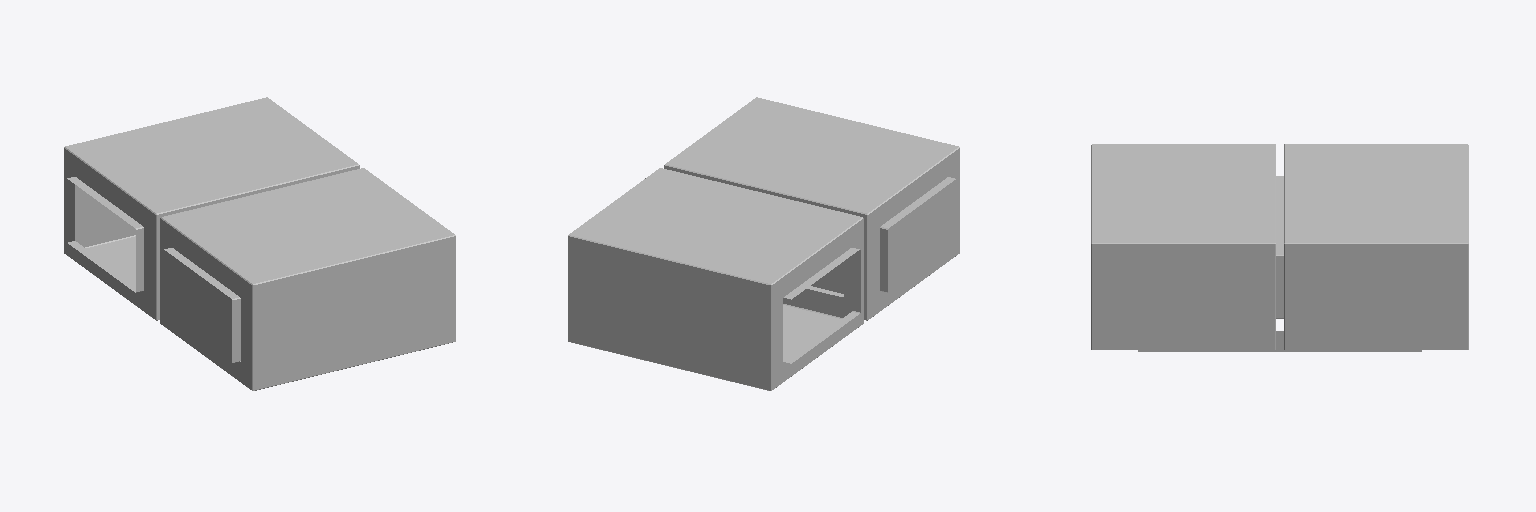
File: firstLivingroomTable.obj
3 views of the same model, side by side, from view 1: azimuth 30°, elevation 25°; view 2: azimuth 150°, elevation 25°; view 3: azimuth 270°, elevation 25° (orthographic).
Visible parts, largest first — view 1: Cube.013_Cube.006; view 2: Cube.013_Cube.006; view 3: Cube.013_Cube.006.
Part boxes in pixels (bbox=[...]): Cube.013_Cube.006: bbox=[64, 97, 455, 390]; Cube.013_Cube.006: bbox=[568, 97, 959, 390]; Cube.013_Cube.006: bbox=[1091, 144, 1468, 351].
Size of the model in its own units: 0.5191 by 0.3 by 0.8.